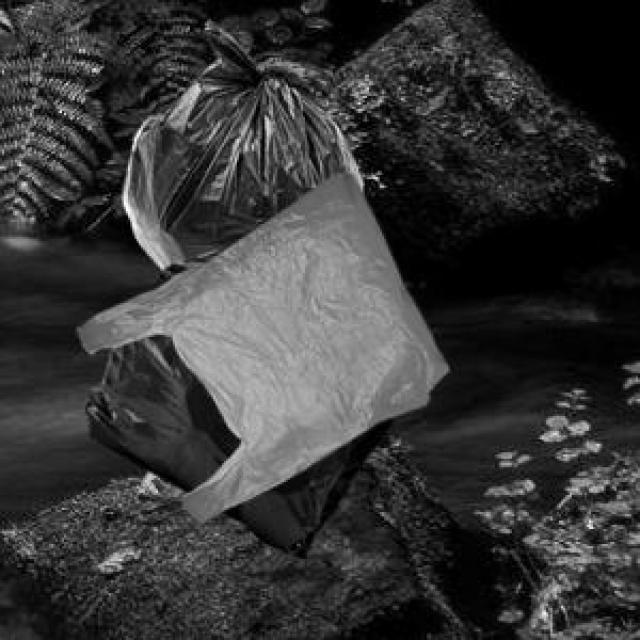miscellaneous trash: (81, 246, 388, 555), (120, 17, 358, 267)
